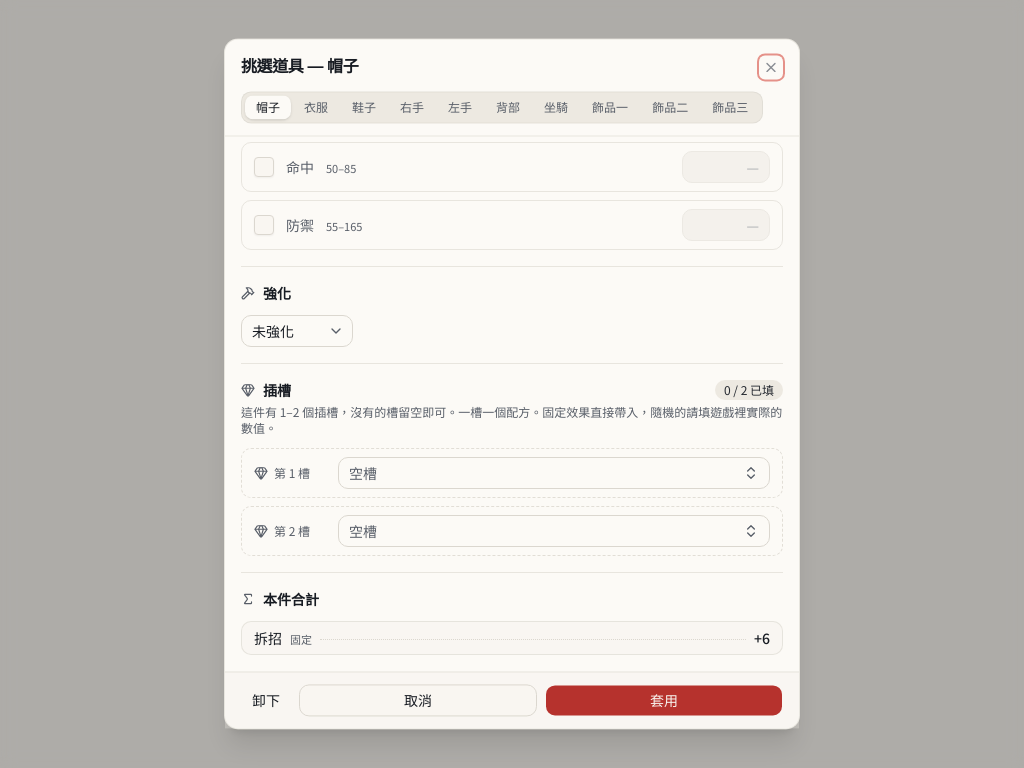
插槽配方選單 › 屬性 chip 篩選後依數值由高到低，隨機配方用最小值排
(page scrolled)
Click the dropdown named "第 1 槽配方" at {"x": 363, "y": 474}, box [338,458,770,490]
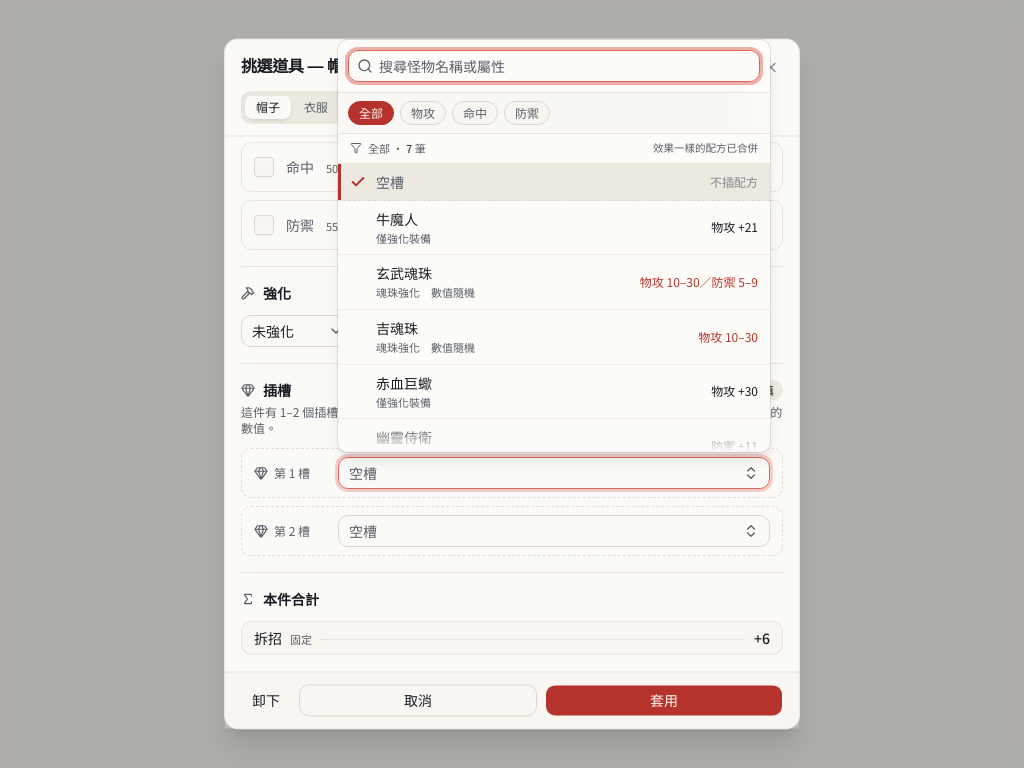
Check: the buttons read "全部", "物攻", "命中", "防禦", in this order
Click the button "物攻" at {"x": 423, "y": 113}, box [400,101,446,125]
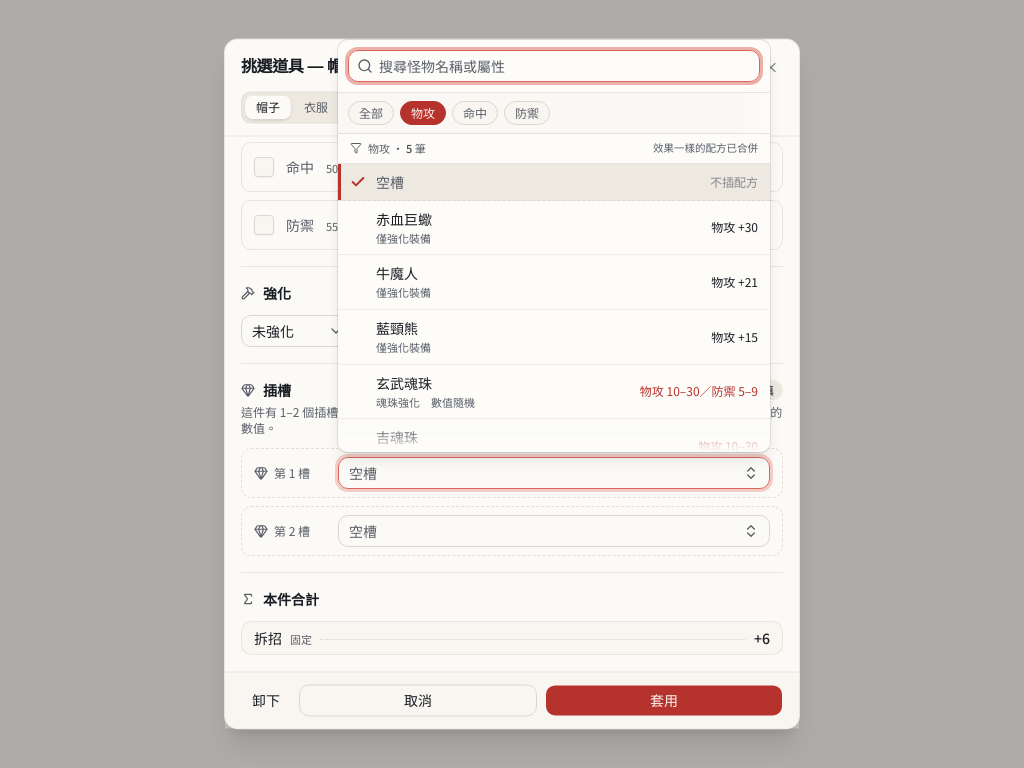
Check: the element with test id "recipe-count" shows "物攻 · 5 筆", box [338,134,770,164]
